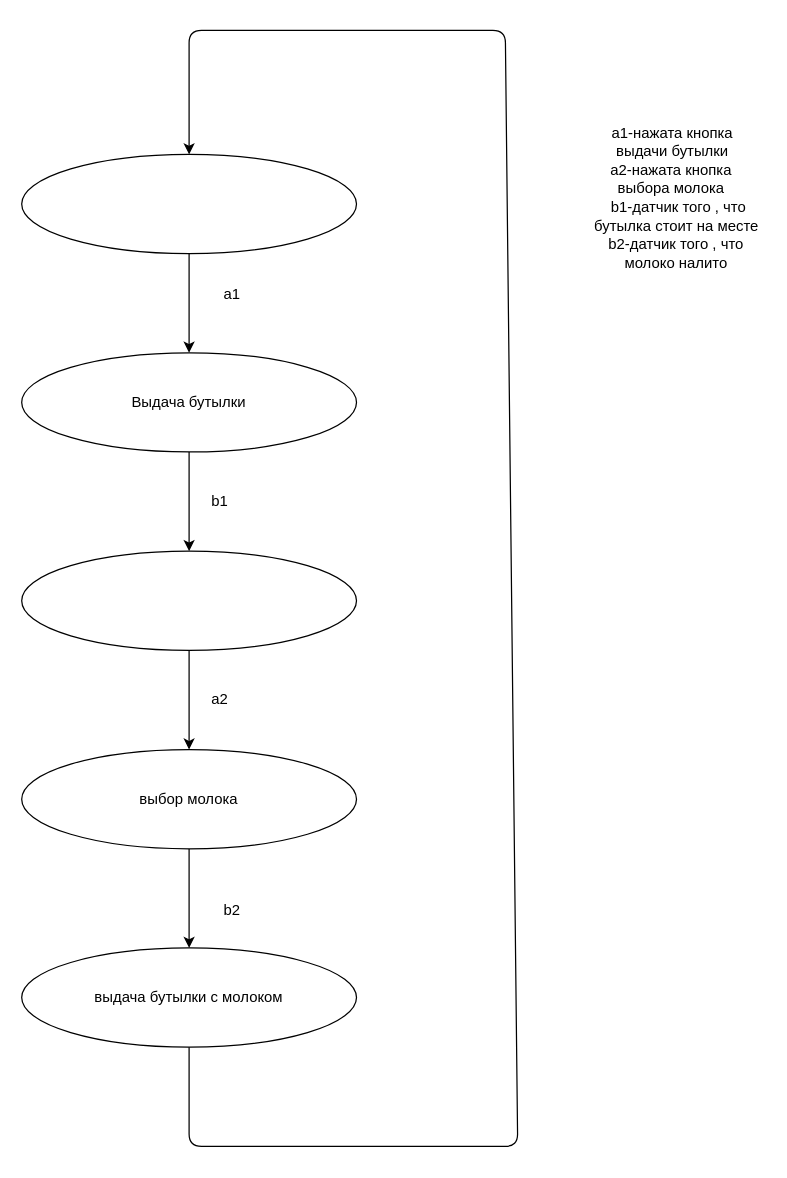
Some shapes in this 787 by 1178 pixel diagram are drawn without their labels. The shapes that lost their labels are listed below. From the top down, each one's box as (x1, y1, x2, y2) in pixels, then its label:
(20, 153, 356, 254): ожидание
(20, 550, 356, 650): очистка бутылки
